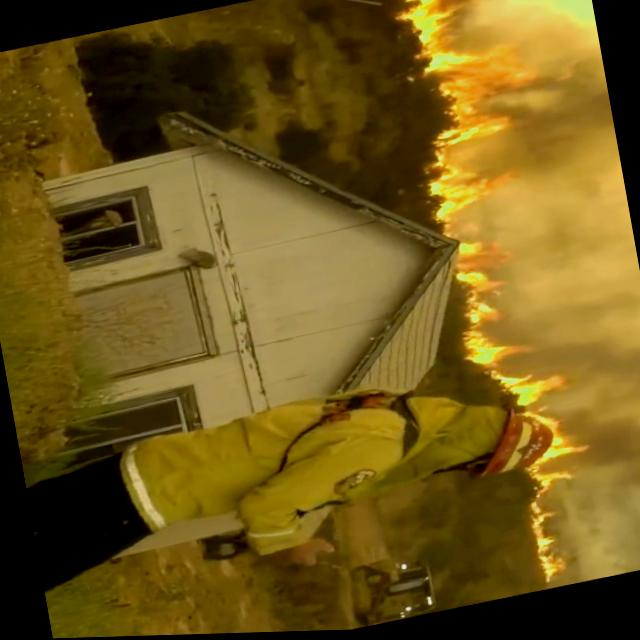fire: (383, 0, 540, 181)
